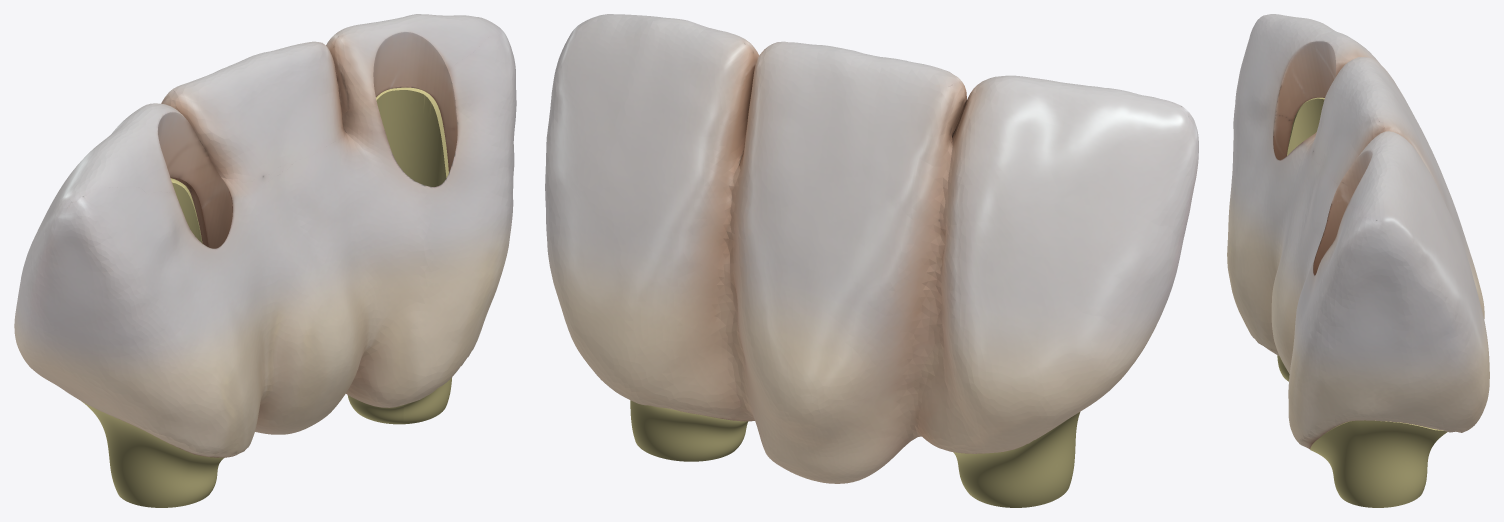
The model's file is fixed.glb.
3 views of the same model, side by side, from view 1: azimuth 30°, elevation 25°; view 2: azimuth 150°, elevation 25°; view 3: azimuth 270°, elevation 25° (orthographic). The views are drawn at different scales.
Visible parts, largest first — view 1: Crown_contour.001, gold_Abutment.002; view 2: Crown_contour.001, gold_Abutment.002; view 3: Crown_contour.001, gold_Abutment.002.
Boxes of the visible parts, x1,y1,x2,y2 form: Crown_contour.001: (14,14,516,457); gold_Abutment.002: (81,87,451,507); Crown_contour.001: (545,14,1198,483); gold_Abutment.002: (630,400,1080,507); Crown_contour.001: (1227,14,1489,449); gold_Abutment.002: (1277,97,1447,507).
Size of the model in its own units: 17.05 by 12.18 by 8.46.
Materials: 2 (1 with a texture image).
